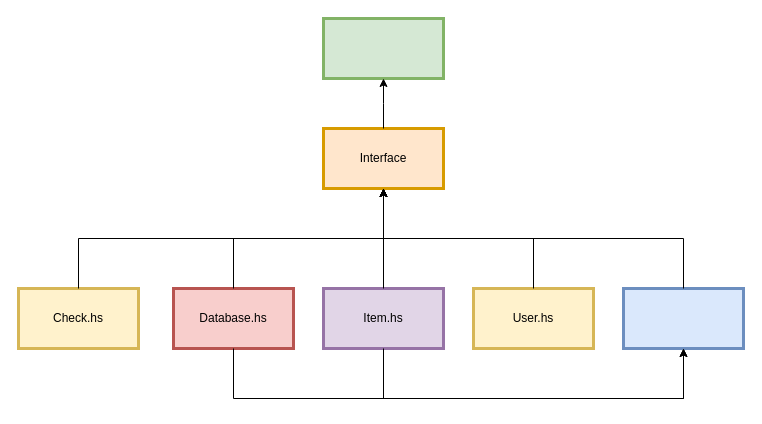
The diagram is 762 pixels wide and 424 high, and some of its shapes have lost their labels. The shapes that lost their labels are listed below. From the top down, each one's centre as x and y in pixels, then its label:
(x=383, y=48): UI
(x=683, y=318): Cart.hs
